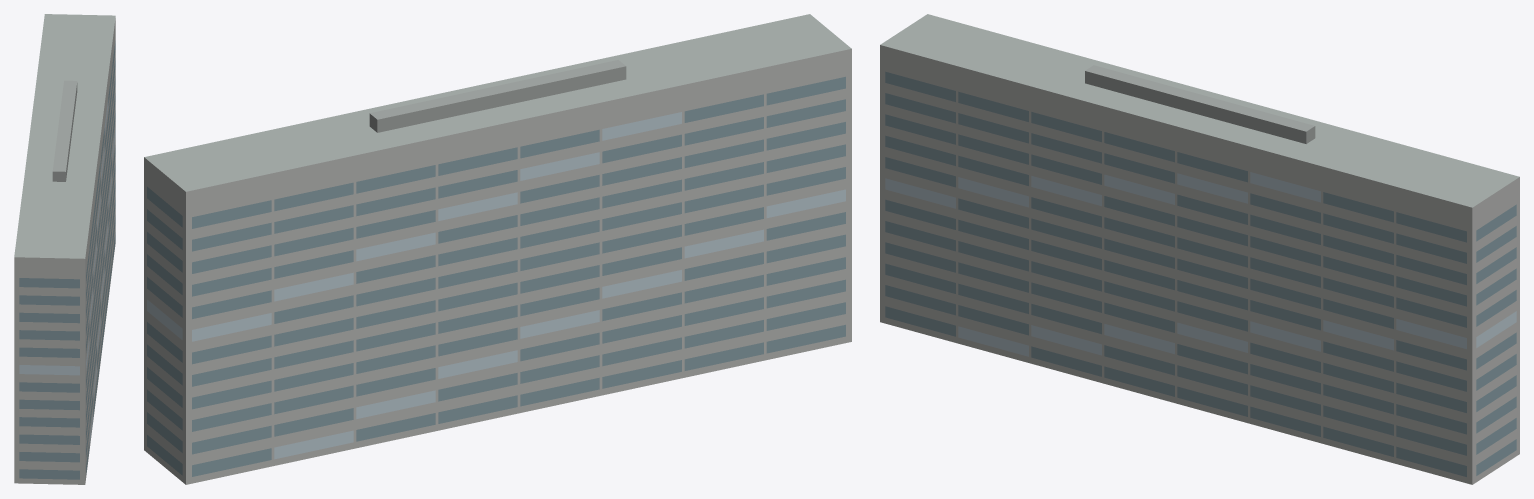
Rendered from apt-a10026873.glb.
3 views of the same model, side by side, from view 1: azimuth 30°, elevation 25°; view 2: azimuth 150°, elevation 25°; view 3: azimuth 270°, elevation 25° (orthographic). The views are drawn at different scales.
Visible parts, largest first — view 1: apt-a10026873; view 2: apt-a10026873; view 3: apt-a10026873.
Part boxes in pixels (<box>): apt-a10026873: <box>14,14,115,484</box>; apt-a10026873: <box>144,14,851,484</box>; apt-a10026873: <box>880,14,1519,484</box>.
Bounding box in the file's own units: 59.42 × 41.43 × 82.94.
